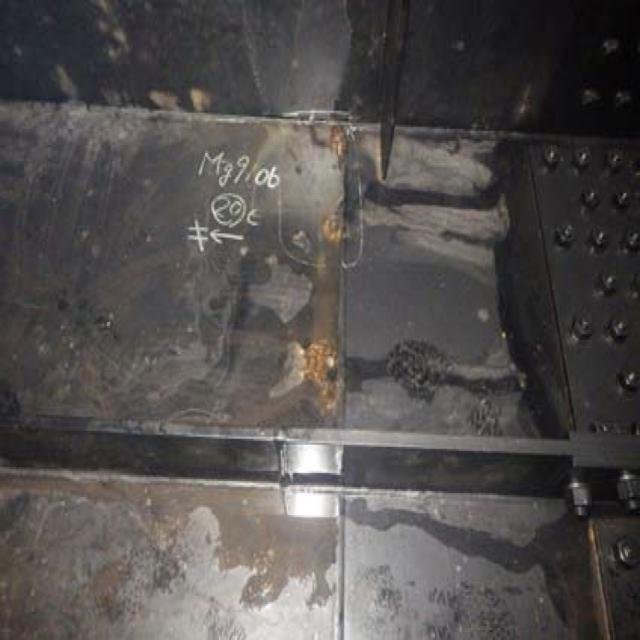corrosion: (288, 122, 358, 424)
